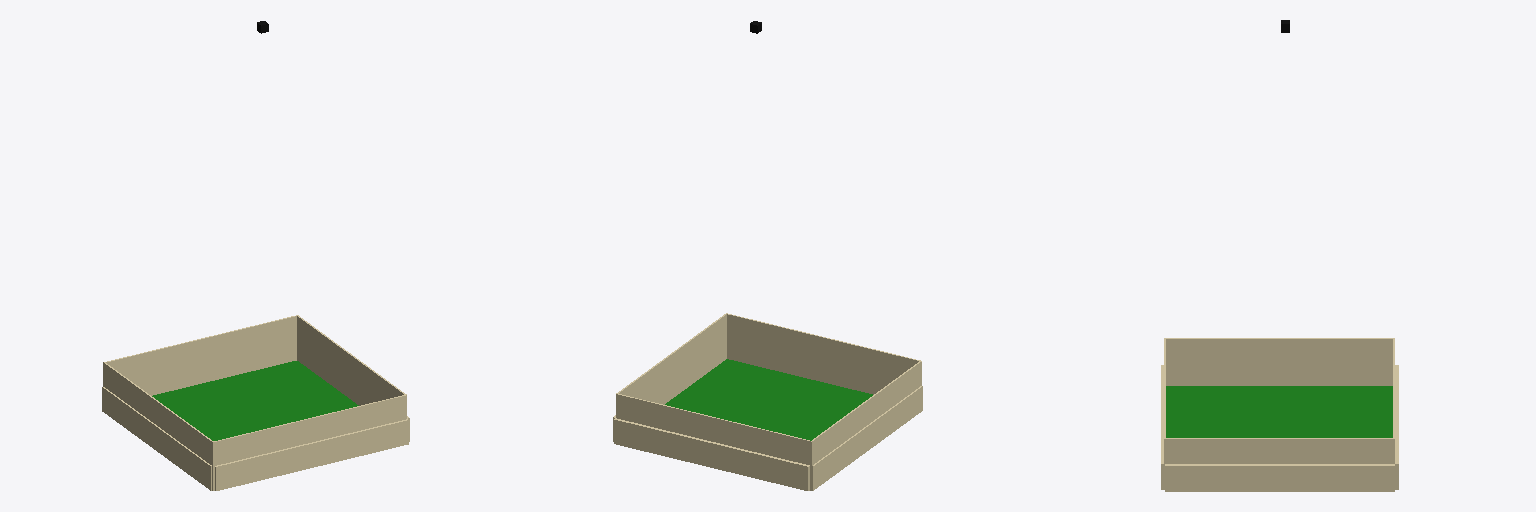
robot.urdf — field:
<?xml version="1.0" encoding="utf-8"?>
<robot name="field">
  <link name="field">
    <inertial>
      <origin xyz="-0.0654 -0.0327 0.1477" rpy="0 0 0"/>
      <mass value="29.46"/>
      <inertia ixx="3.874" ixy="0" ixz="0" iyy="4.056" iyz="0" izz="7.489"/>
    </inertial>

    <visual>
      <origin xyz="0 0 0" rpy="0 0 0"/>
      <geometry>
        <mesh filename="package://robot_description/meshes/field.STL"/>
      </geometry>
      <material name="">
        <color rgba="0.90 0.85 0.70 1"/>
      </material>
    </visual>

    <visual>
      <origin xyz="-0.06 -0.03 0.015" rpy="0 0 0"/>
      <geometry>
        <box size="1.24 1.212 0.02"/>
      </geometry>
      <material name="floor_green">
        <color rgba="0.15 0.55 0.15 1"/>
      </material>
    </visual>

    <collision>
      <origin xyz="-0.06 -0.03 0.015" rpy="0 0 0"/>
      <geometry>
        <box size="1.24 1.212 0.02"/>
      </geometry>
    </collision>
  </link>

  <joint name="camera_joint" type="fixed">
    <parent link="field"/>
    <child link="camera_link"/>
    <origin xyz="0.0 0.0 2.430" rpy="0 1.5708 1.5708"/>
  </joint>

  <link name="camera_link">
    <visual>
      <geometry>
        <box size="0.05 0.05 0.05"/>
      </geometry>
      <material name="camera_black">
        <color rgba="0.1 0.1 0.1 1"/>
      </material>
    </visual>
    <inertial>
      <mass value="0.1"/>
      <inertia ixx="0.0001" ixy="0" ixz="0" iyy="0.0001" iyz="0" izz="0.0001"/>
    </inertial>
  </link>

  <link name="wall_right">
    <inertial>
      <origin xyz="0 0 0" rpy="0 0 0"/>
      <mass value="0.5"/>
      <inertia ixx="0.01" ixy="0" ixz="0" iyy="0.01" iyz="0" izz="0.01"/>
    </inertial>
    <visual>
      <geometry><box size="0.02 1.212 0.15"/></geometry>
      <material name="wall"><color rgba="0.90 0.85 0.70 1"/></material>
    </visual>
    <collision>
      <geometry><box size="0.02 1.212 0.15"/></geometry>
    </collision>
  </link>

  <joint name="wall_right_joint" type="fixed">
    <parent link="field"/>
    <child link="wall_right"/>
    <origin xyz="0.57 -0.03 0.075" rpy="0 0 0"/>
  </joint>

  <link name="wall_left">
    <inertial>
      <origin xyz="0 0 0" rpy="0 0 0"/>
      <mass value="0.5"/>
      <inertia ixx="0.01" ixy="0" ixz="0" iyy="0.01" iyz="0" izz="0.01"/>
    </inertial>
    <visual>
      <geometry><box size="0.02 1.212 0.15"/></geometry>
      <material name="wall"><color rgba="0.90 0.85 0.70 1"/></material>
    </visual>
    <collision>
      <geometry><box size="0.02 1.212 0.15"/></geometry>
    </collision>
  </link>

  <joint name="wall_left_joint" type="fixed">
    <parent link="field"/>
    <child link="wall_left"/>
    <origin xyz="-0.69 -0.03 0.075" rpy="0 0 0"/>
  </joint>

  <link name="wall_top">
    <inertial>
      <origin xyz="0 0 0" rpy="0 0 0"/>
      <mass value="0.5"/>
      <inertia ixx="0.01" ixy="0" ixz="0" iyy="0.01" iyz="0" izz="0.01"/>
    </inertial>
    <visual>
      <geometry><box size="1.24 0.02 0.15"/></geometry>
      <material name="wall"><color rgba="0.90 0.85 0.70 1"/></material>
    </visual>
    <collision>
      <geometry><box size="1.24 0.02 0.15"/></geometry>
    </collision>
  </link>

  <joint name="wall_top_joint" type="fixed">
    <parent link="field"/>
    <child link="wall_top"/>
    <origin xyz="-0.06 0.587 0.075" rpy="0 0 0"/>
  </joint>

  <link name="wall_bottom">
    <inertial>
      <origin xyz="0 0 0" rpy="0 0 0"/>
      <mass value="0.5"/>
      <inertia ixx="0.01" ixy="0" ixz="0" iyy="0.01" iyz="0" izz="0.01"/>
    </inertial>
    <visual>
      <geometry><box size="1.24 0.02 0.15"/></geometry>
      <material name="wall"><color rgba="0.90 0.85 0.70 1"/></material>
    </visual>
    <collision>
      <geometry><box size="1.24 0.02 0.15"/></geometry>
    </collision>
  </link>

  <joint name="wall_bottom_joint" type="fixed">
    <parent link="field"/>
    <child link="wall_bottom"/>
    <origin xyz="-0.06 -0.647 0.075" rpy="0 0 0"/>
  </joint>

  <gazebo>
    <static>true</static>
    <plugin filename="gz-sim-sensors-system" name="gz::sim::systems::Sensors">
      <render_engine>ogre2</render_engine>
    </plugin>
  </gazebo>

  <gazebo reference="camera_link">
    <sensor name="overhead_camera" type="camera">
      <pose>0 0 0 0 0 0</pose>
      <topic>/overhead_camera/image_raw</topic>
      <always_on>1</always_on>
      <update_rate>30</update_rate>
      <visualize>true</visualize>
      <camera>
        <horizontal_fov>0.930</horizontal_fov>
        <image>
          <width>1280</width>
          <height>720</height>
          <format>R8G8B8</format>
        </image>
        <clip>
          <near>0.1</near>
          <far>50</far>
        </clip>
      </camera>
    </sensor>
  </gazebo>

</robot>

--- What the picture shows (computed from the rendered views, not written in the file) ---
The picture shows the robot from 3 angles, left to right: view 1: azimuth 30°, elevation 25°; view 2: azimuth 150°, elevation 25°; view 3: azimuth 270°, elevation 25°; orthographic projection.
Robot: field — 6 links, 5 joints (5 fixed); root link field; default pose: all joints at 0.
Links seen in each view (by area): view 1: field, wall_bottom, wall_left; view 2: field, wall_top, wall_left; view 3: field, wall_right, wall_left.
Boxes of the visible links, <box> form: field: <box>103,315,406,490</box>; wall_bottom: <box>215,419,408,490</box>; wall_left: <box>102,387,211,490</box>; field: <box>616,313,921,490</box>; wall_top: <box>614,418,809,490</box>; wall_left: <box>812,386,922,490</box>; field: <box>1164,338,1394,463</box>; wall_right: <box>1165,464,1394,491</box>; wall_left: <box>1166,365,1392,385</box>.
Bounding box of the posed robot: 1.28 × 1.25 × 2.46 m (x, y, z).
Meshes: 1 distinct files referenced, 1 mesh visuals loaded (1 binary STL).
